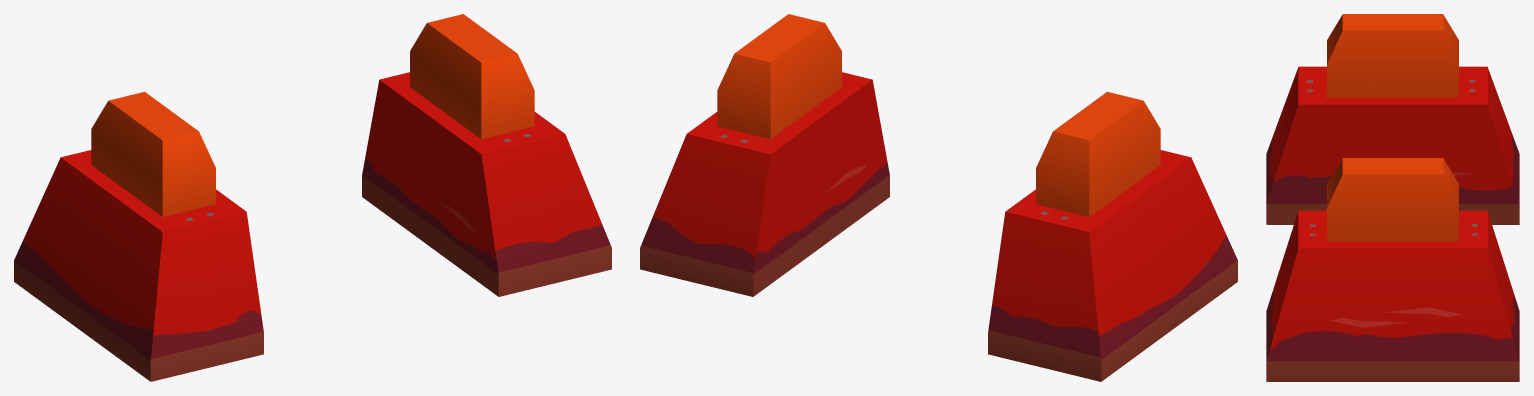
File: Bridge2Beam0.fbx
The picture shows the model from 3 angles, left to right: view 1: azimuth 30°, elevation 25°; view 2: azimuth 150°, elevation 25°; view 3: azimuth 270°, elevation 25°; orthographic projection. The views are drawn at different scales.
Visible parts, largest first — view 1: Bridge2Beam0; view 2: Bridge2Beam0; view 3: Bridge2Beam0.
Boxes of the visible parts, <box> form: Bridge2Beam0: <box>14,14,611,381</box>; Bridge2Beam0: <box>640,14,1237,381</box>; Bridge2Beam0: <box>1266,14,1519,381</box>.
Size of the model in its own units: 23.56 by 9.69 by 12.11.
